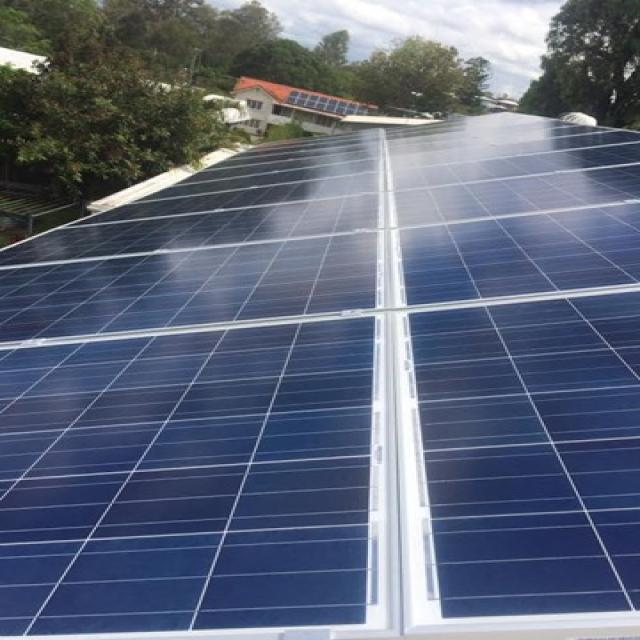clean-solar-panel: (3, 114, 640, 640)
